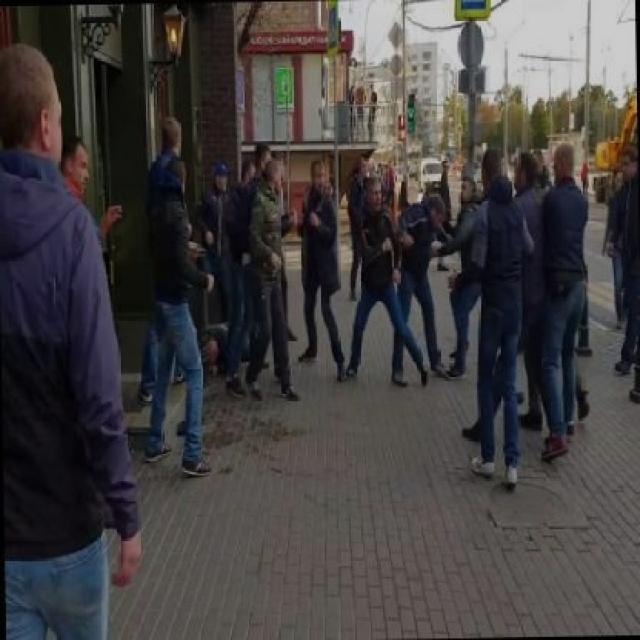fight: (343, 151, 443, 391)
non-fight: (0, 37, 148, 638), (446, 147, 536, 483), (144, 154, 215, 478), (228, 144, 298, 404), (531, 139, 587, 458), (591, 134, 638, 378)
